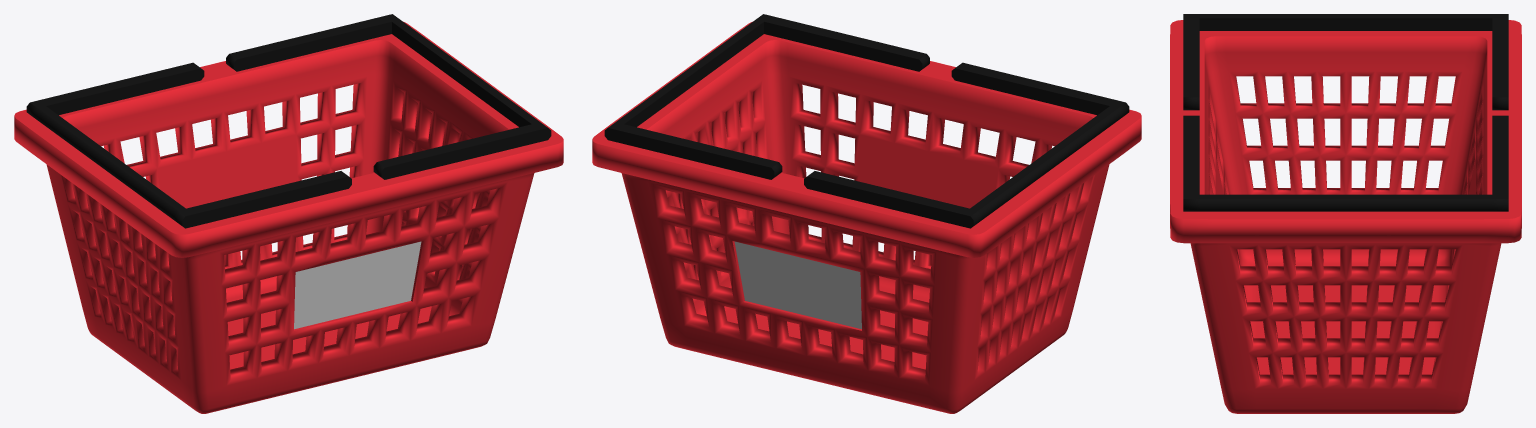
The model's file is Basket.fbx.
3 views of the same model, side by side, from view 1: azimuth 30°, elevation 25°; view 2: azimuth 150°, elevation 25°; view 3: azimuth 270°, elevation 25° (orthographic). The views are drawn at different scales.
Visible parts, largest first — view 1: Angled Basket, Right Handle, Left Handle; view 2: Angled Basket, Right Handle, Left Handle; view 3: Angled Basket, Right Handle, Left Handle.
Boxes of the visible parts, <box> form: Angled Basket: <box>14,22,563,413</box>; Right Handle: <box>226,14,551,179</box>; Left Handle: <box>26,62,351,228</box>; Angled Basket: <box>592,22,1141,413</box>; Right Handle: <box>604,14,929,179</box>; Left Handle: <box>804,62,1129,228</box>; Angled Basket: <box>1170,20,1521,413</box>; Right Handle: <box>1183,115,1508,211</box>; Left Handle: <box>1183,14,1508,110</box>.
Bounding box in the file's own units: 78.29 × 43.29 × 58.34.
